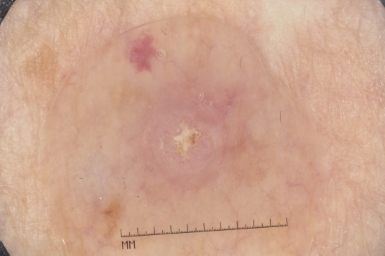seborrheic keratosis: (93, 28, 272, 204)
